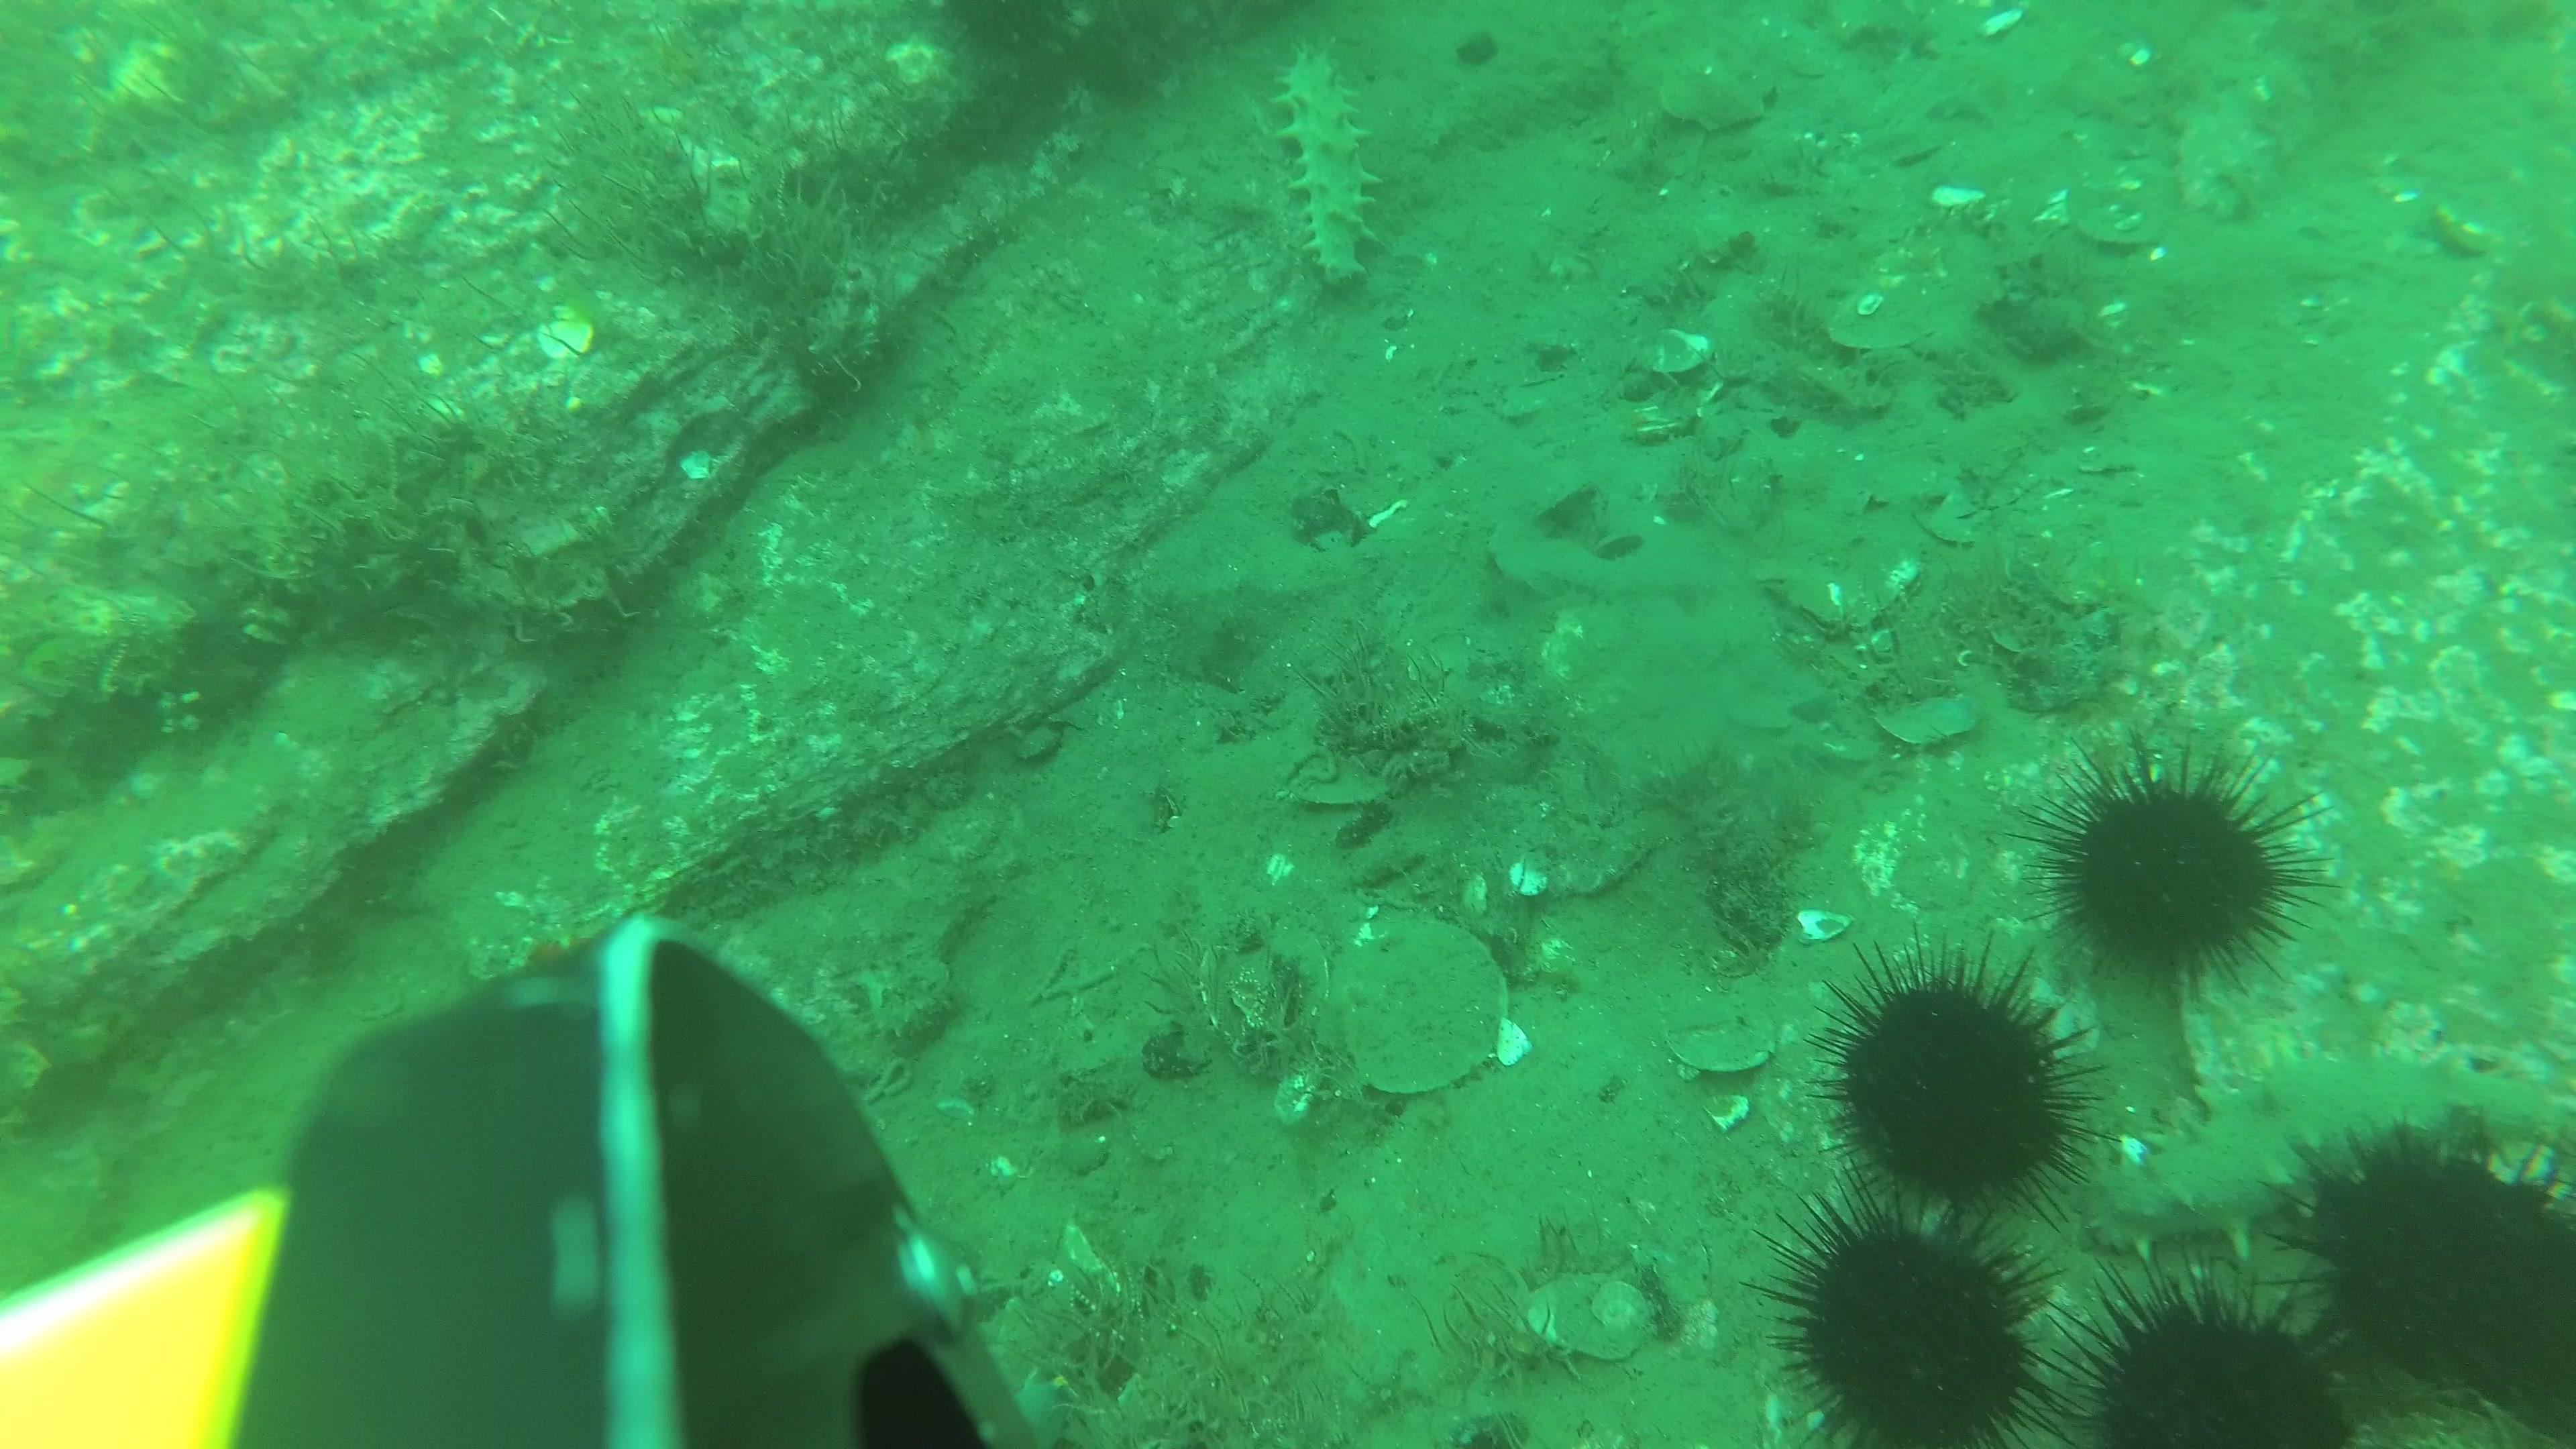echinus: (1803, 929, 2121, 1237), (1743, 1164, 2068, 1449), (2013, 731, 2341, 996), (2258, 1116, 2546, 1389), (2040, 1274, 2371, 1449), (2482, 1214, 2576, 1430), (936, 0, 1079, 73)
holothurian: (2086, 1053, 2569, 1265), (1272, 35, 1385, 290)
scallop: (1345, 920, 1513, 1099), (1527, 1276, 1658, 1361), (1658, 60, 1782, 131), (1665, 1017, 1778, 1077)
